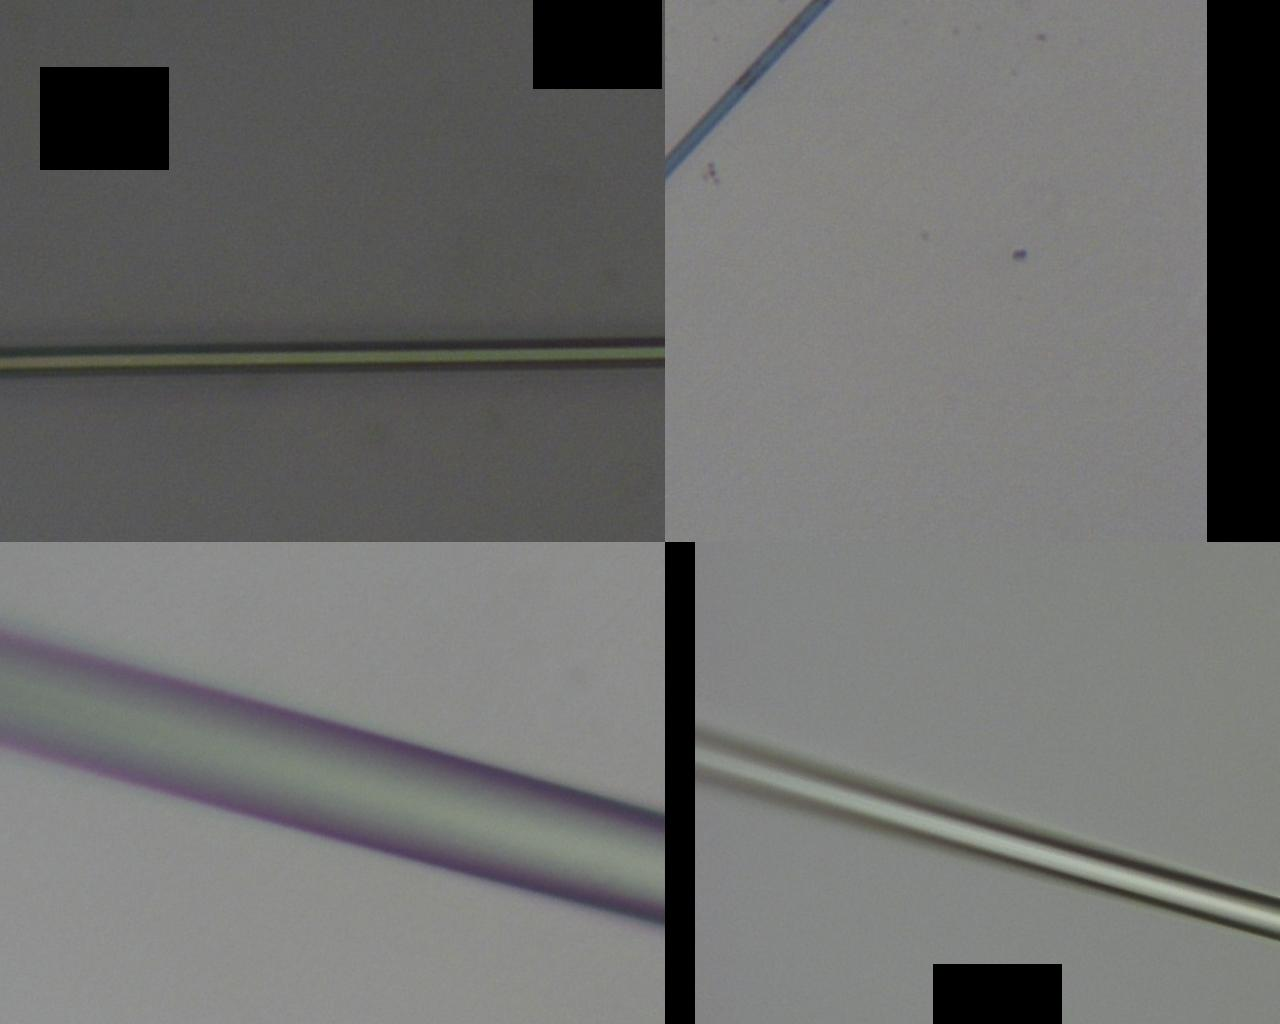fiber: (613, 0, 675, 1024)
